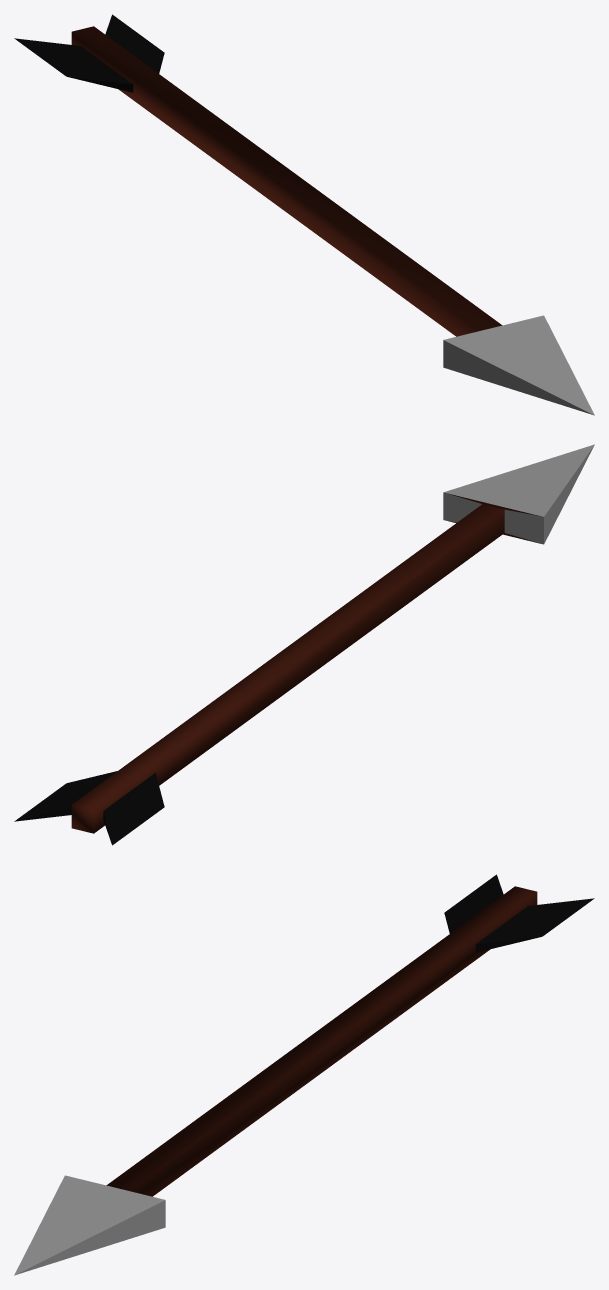
Rendered from arrow.fbx.
3 renders of one model, top to bottom at view 1: azimuth 30°, elevation 25°; view 2: azimuth 150°, elevation 25°; view 3: azimuth 330°, elevation 25°, orthographic.
Visible parts, largest first — view 1: arrow; view 2: arrow; view 3: arrow.
Part boxes in pixels (x1=…): arrow: x1=14, y1=14, x2=594, y2=415; arrow: x1=14, y1=444, x2=594, y2=845; arrow: x1=14, y1=874, x2=594, y2=1275.
Size of the model in its own units: 0.0582 by 0.0153 by 0.5324.
